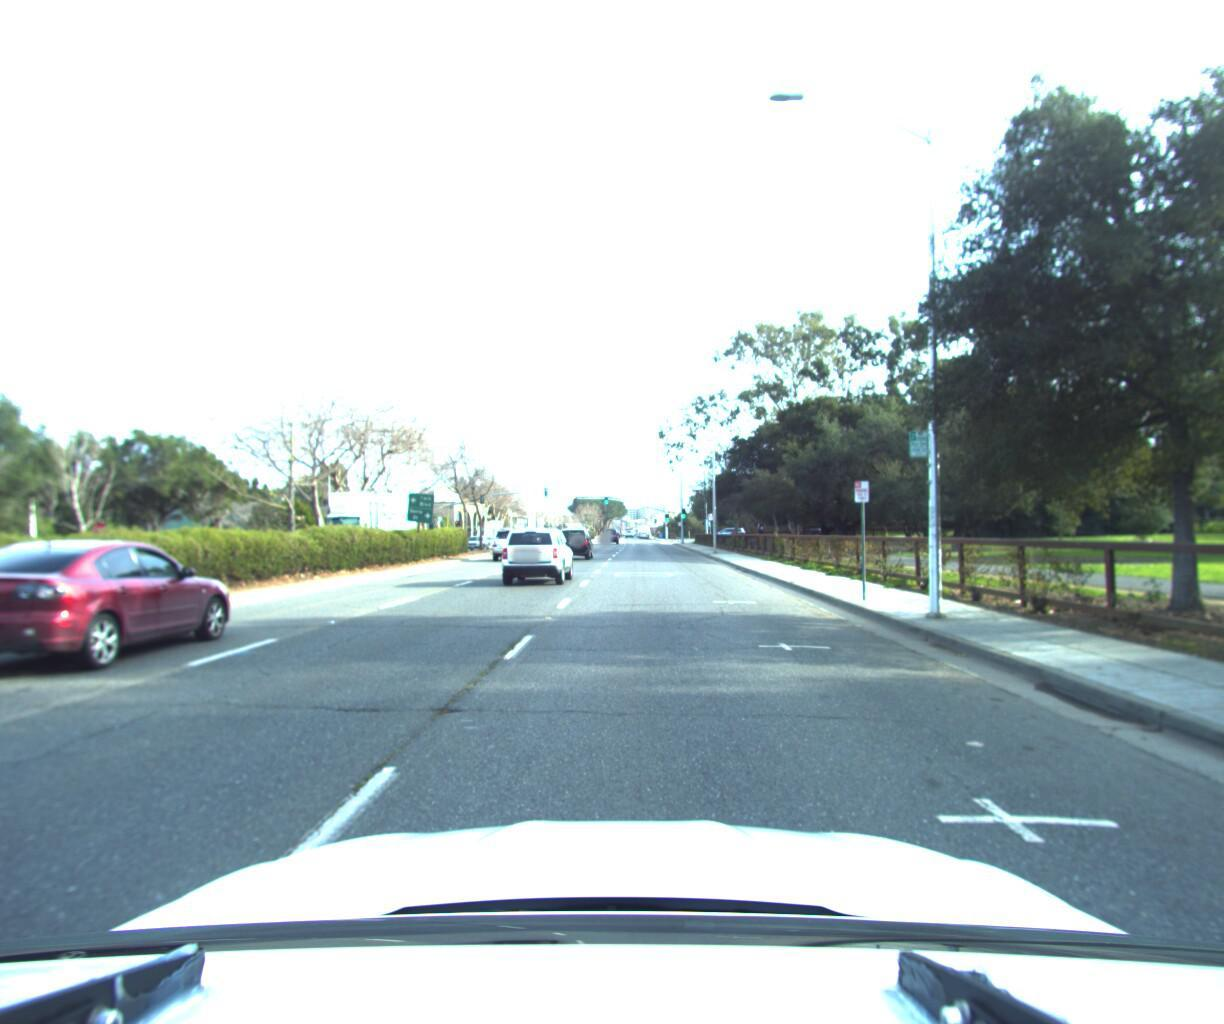car: (497, 521, 579, 588), (555, 524, 595, 559)
truck: (297, 489, 427, 567)
